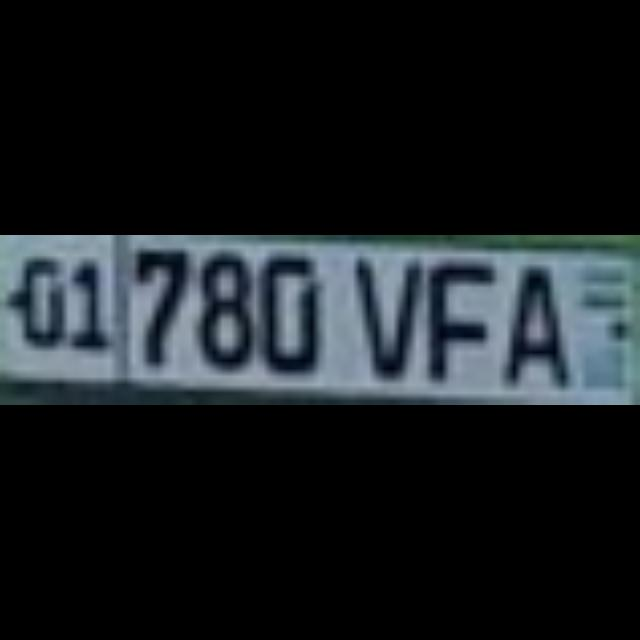0: (250, 243, 308, 365), (16, 252, 56, 341)
1: (56, 252, 106, 341)
7: (122, 235, 186, 357)
8: (186, 243, 252, 365)
A: (494, 251, 568, 381)
F: (414, 251, 486, 373)
V: (348, 251, 414, 373)
